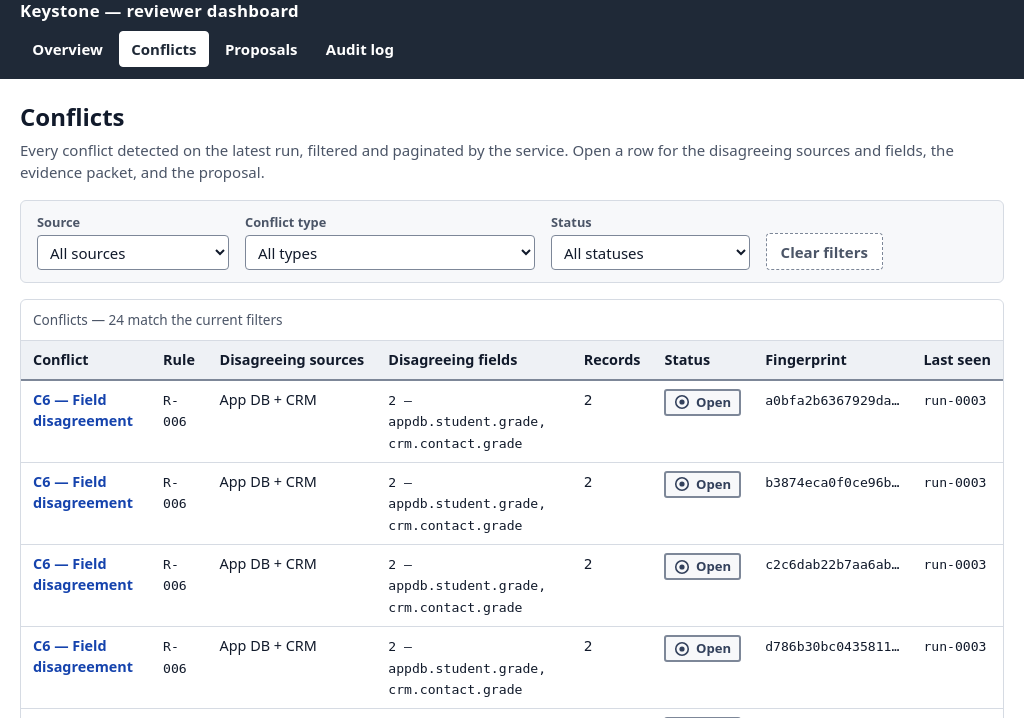
Test: /conflicts — filtering › returns to page 1 when a filter changes
This screenshot has width=1024, height=718.
Select "C6 — Field disagreement" in the dropdown labelled "Conflict type". click: (390, 253)
box: x1=245 y1=235 x2=535 y2=270
(page scrolled)
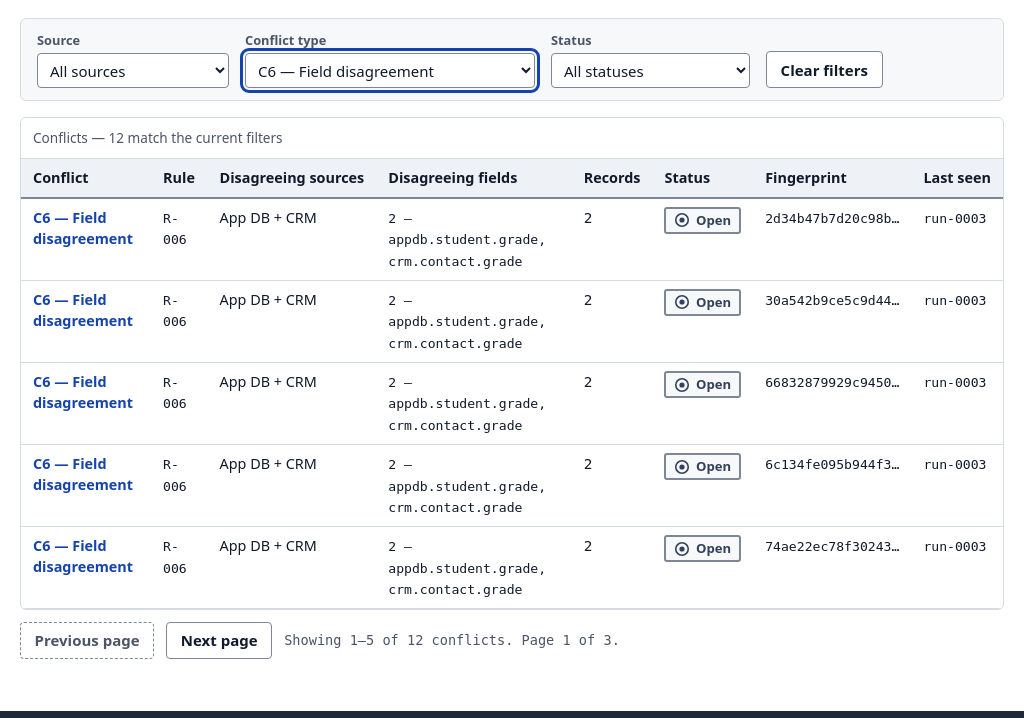
Result: the text with test id "pagination-status" shows "Page 1 of" at x1=284 y1=630 x2=620 y2=651
